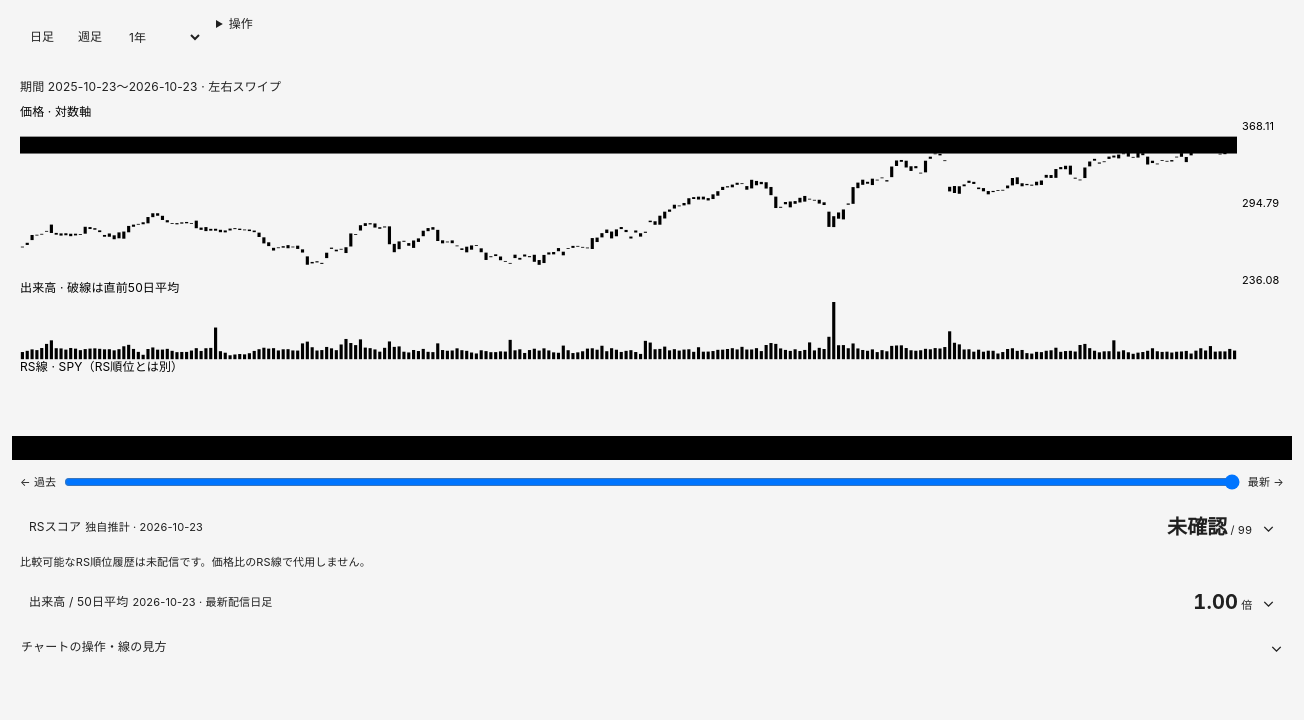
Test: self-drawn SVG evidence and controls › keeps exact daily numeric legends in the initially closed mobile chart help
Click the heading "チャートの操作・線の見方 ⌄": (94, 646) [21,636,1283,656]
(page scrolled)
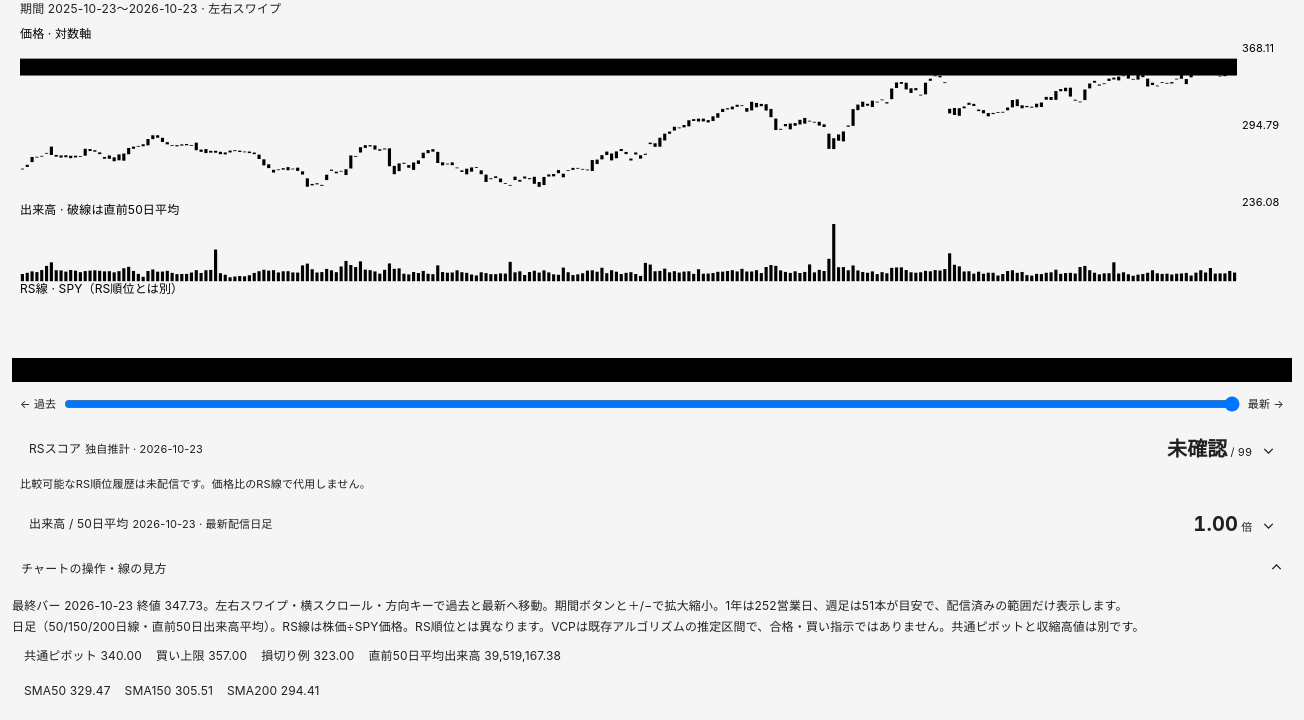
Expected: the text "チャートの操作・線の見方" shows "共通ピボット 340.00", [12,546,1292,719]
Expected: the text "チャートの操作・線の見方" shows "買い上限 357.00", [12,546,1292,719]
Expected: the text "チャートの操作・線の見方" shows "損切り例 323.00", [12,546,1292,719]
